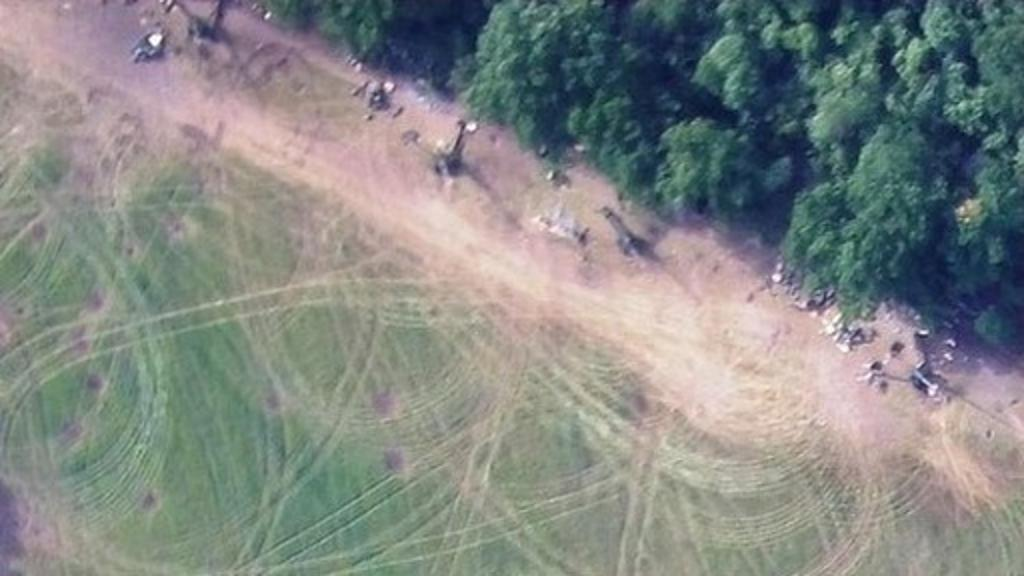ART: (870, 328, 950, 416), (402, 116, 474, 194), (598, 200, 658, 278), (168, 2, 226, 52)
